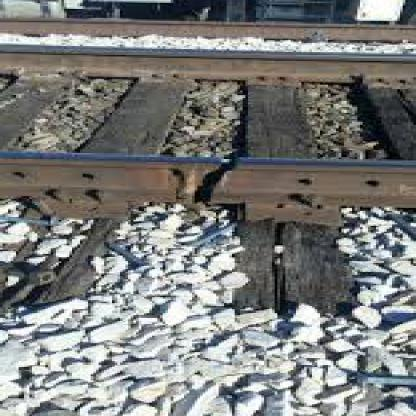Defective 2: (163, 140, 261, 222)
